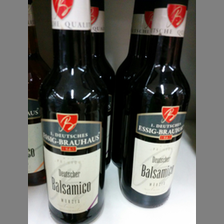vinegar: (118, 1, 194, 209), (43, 1, 108, 223)
